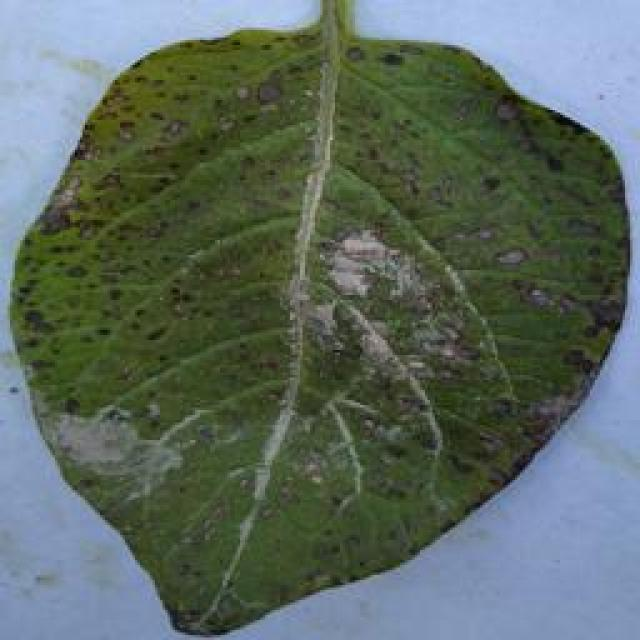Potato_Early_Blight: (10, 13, 638, 634), (442, 2, 640, 112)
